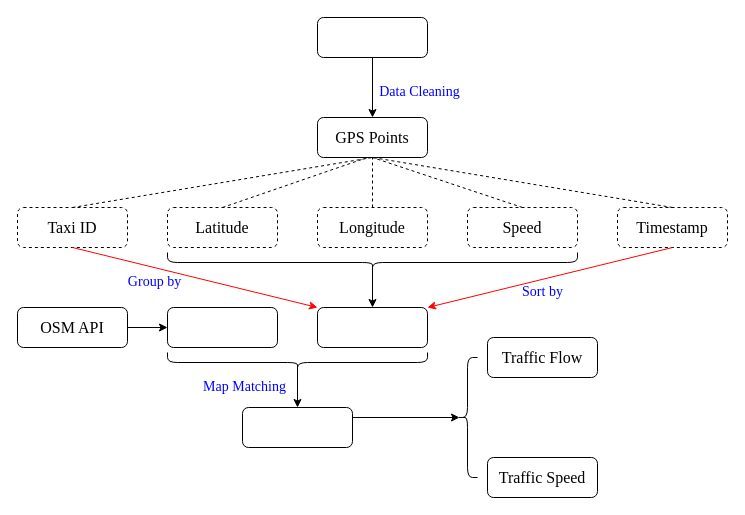
Image size: 745x515. Some labels were removed from this diagram. Here are the shapes that lost their labels. From the top down, the box of each, then its label:
(316, 16, 428, 58): Raw GPS Data
(166, 306, 278, 348): Road Map
(316, 306, 428, 348): GPS Sequence
(242, 406, 352, 448): Trajectory
